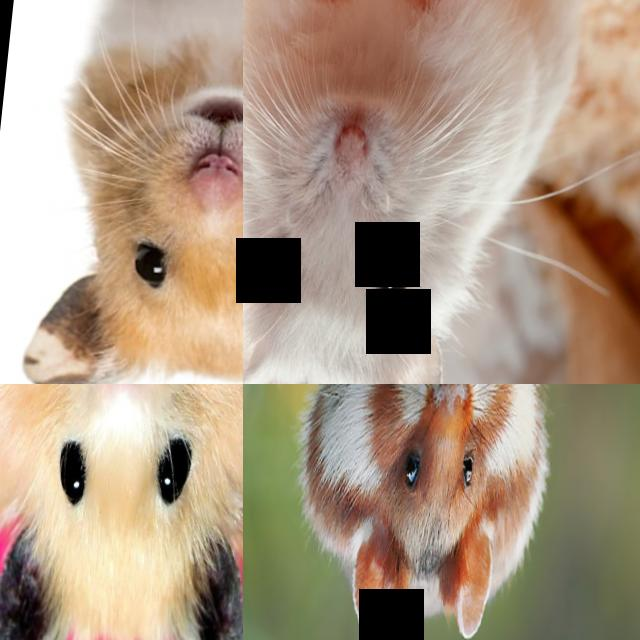hamster: (243, 0, 600, 384), (8, 0, 243, 384), (279, 384, 574, 640), (0, 384, 243, 640)
